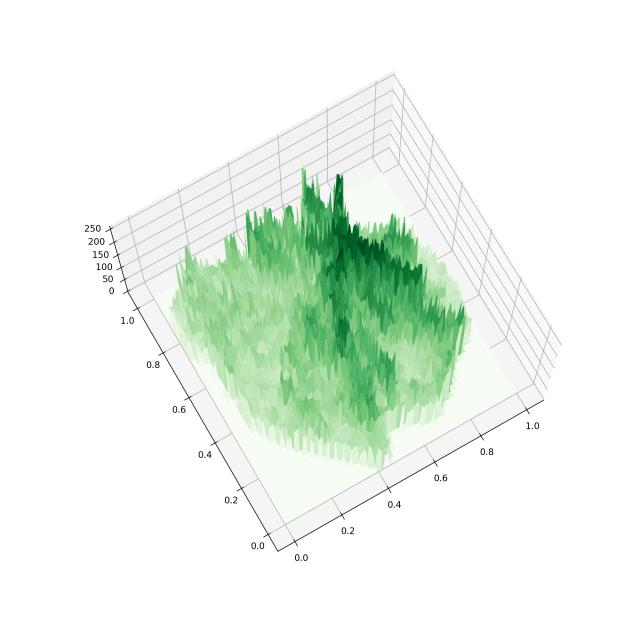spruce: (51, 70, 613, 594)
